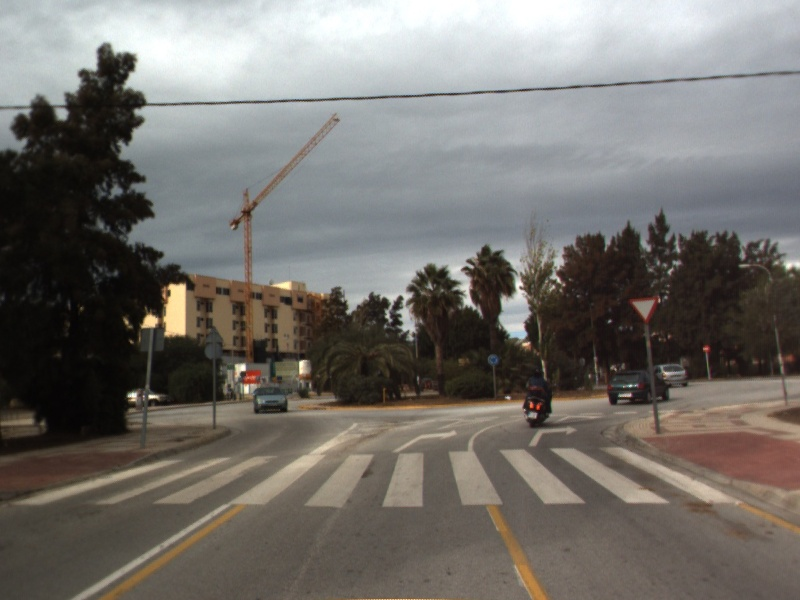RIGHT: (389, 427, 459, 455), (527, 423, 580, 449)
